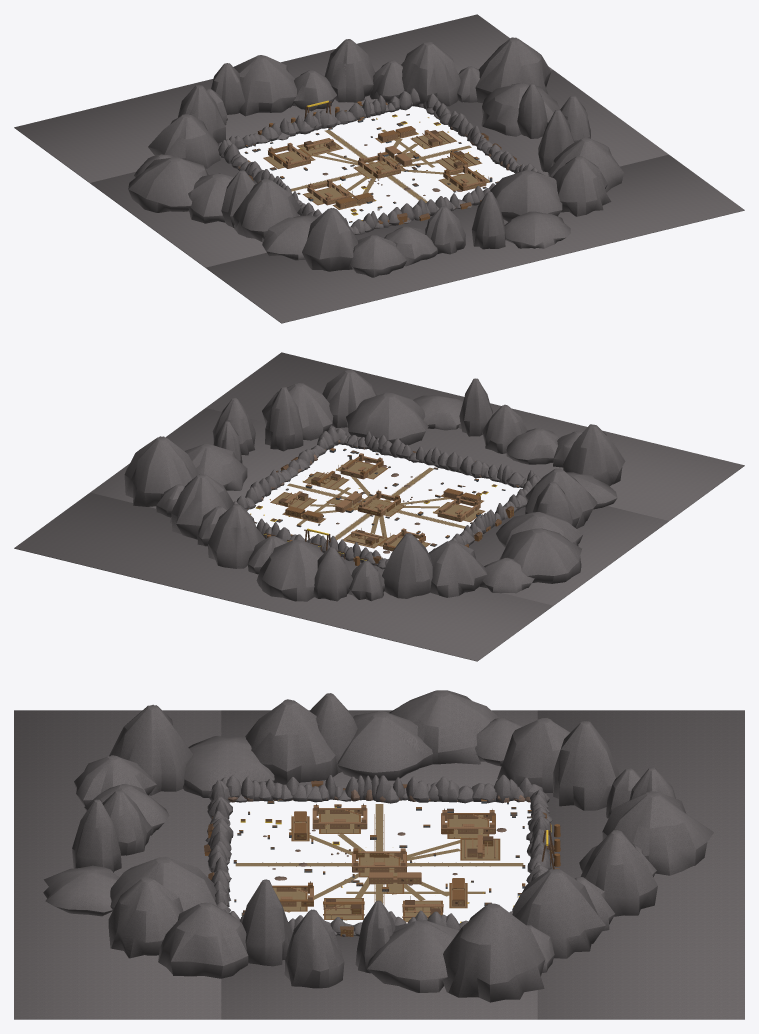
Rendered from saisekiba-lod0.glb.
3 views of the same model, one above another, from view 1: azimuth 30°, elevation 25°; view 2: azimuth 150°, elevation 25°; view 3: azimuth 270°, elevation 25° (orthographic). The views are drawn at different scales.
Parts seen in each view (by area): view 1: HB_saisekiba_LOD0_terrain, HB_saisekiba_LOD0_road, HB_saisekiba_LOD0_wall, HB_saisekiba_LOD0_wall_alt, HB_saisekiba_LOD0_trim; view 2: HB_saisekiba_LOD0_terrain, HB_saisekiba_LOD0_road, HB_saisekiba_LOD0_wall, HB_saisekiba_LOD0_wall_alt, HB_saisekiba_LOD0_trim; view 3: HB_saisekiba_LOD0_terrain, HB_saisekiba_LOD0_road, HB_saisekiba_LOD0_wall, HB_saisekiba_LOD0_wall_alt, HB_saisekiba_LOD0_trim, HB_saisekiba_LOD0_natural.
Boxes of the visible parts, left/top/right/bottom form: HB_saisekiba_LOD0_terrain: left=14, top=14, right=744, bottom=323; HB_saisekiba_LOD0_road: left=263, top=119, right=489, bottom=209; HB_saisekiba_LOD0_wall: left=268, top=129, right=485, bottom=208; HB_saisekiba_LOD0_wall_alt: left=246, top=101, right=516, bottom=224; HB_saisekiba_LOD0_trim: left=238, top=101, right=520, bottom=223; HB_saisekiba_LOD0_terrain: left=14, top=352, right=744, bottom=661; HB_saisekiba_LOD0_road: left=270, top=460, right=484, bottom=548; HB_saisekiba_LOD0_wall: left=276, top=453, right=480, bottom=551; HB_saisekiba_LOD0_wall_alt: left=250, top=446, right=518, bottom=565; HB_saisekiba_LOD0_trim: left=247, top=448, right=518, bottom=560; HB_saisekiba_LOD0_terrain: left=14, top=690, right=744, bottom=1019; HB_saisekiba_LOD0_road: left=235, top=804, right=523, bottom=921; HB_saisekiba_LOD0_wall: left=260, top=805, right=495, bottom=917; HB_saisekiba_LOD0_wall_alt: left=204, top=781, right=560, bottom=936; HB_saisekiba_LOD0_trim: left=204, top=780, right=554, bottom=936; HB_saisekiba_LOD0_natural: left=209, top=789, right=551, bottom=907.
Bounding box in the file's own units: 740 × 86.88 × 740.
Materials: 9 (8 with a texture image).
